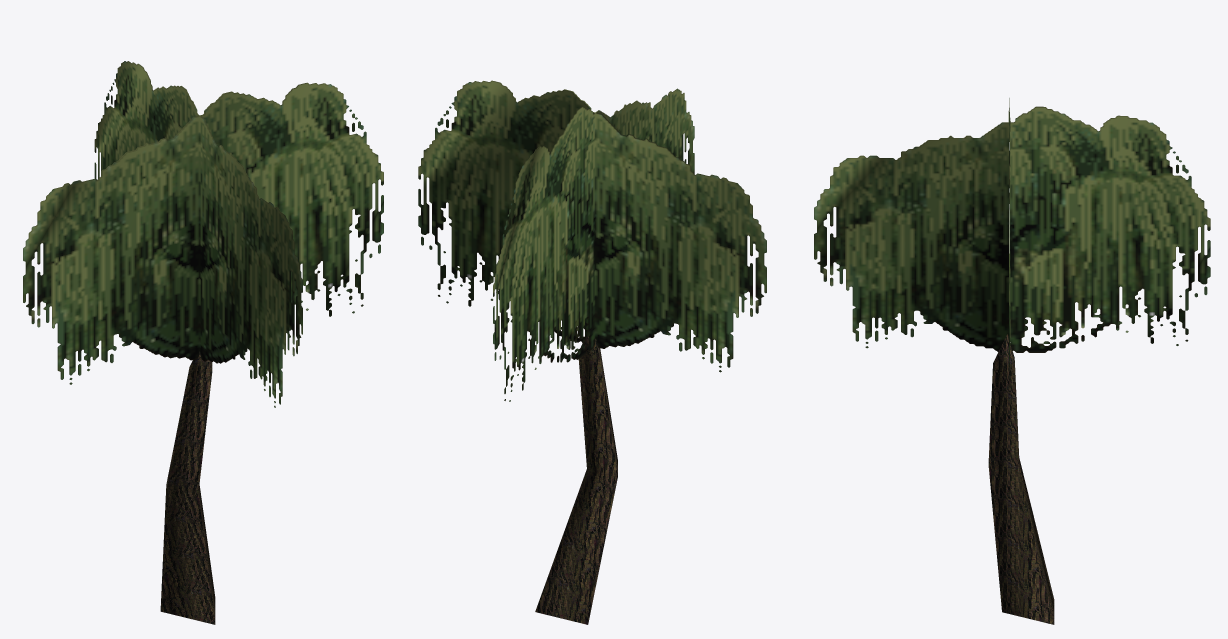
File: TREE71_ACTORDEF.fbx
3 views of the same model, side by side, from view 1: azimuth 30°, elevation 25°; view 2: azimuth 150°, elevation 25°; view 3: azimuth 270°, elevation 25° (orthographic). The views are drawn at different scales.
Visible parts, largest first — view 1: U3DMesh; view 2: U3DMesh; view 3: U3DMesh.
Boxes of the visible parts, <box> form: U3DMesh: <box>23,61,383,624</box>; U3DMesh: <box>418,80,766,624</box>; U3DMesh: <box>814,98,1210,624</box>.
Size of the model in its own units: 40 by 54.6 by 40.
